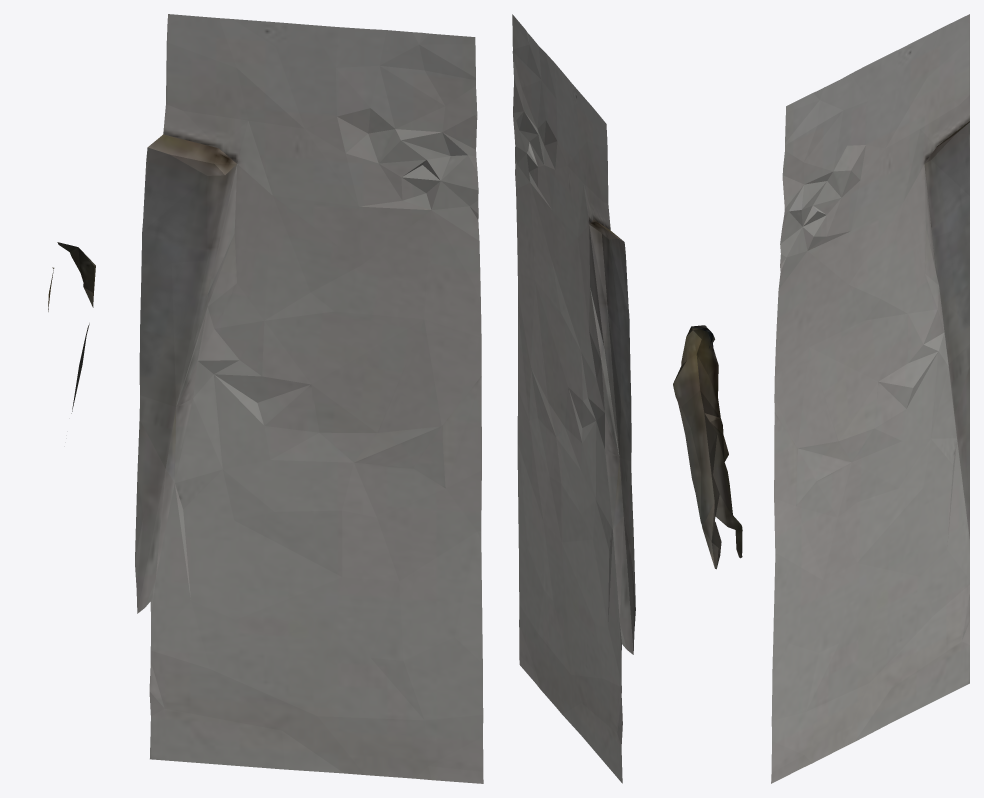
3 views of the same model, side by side, from view 1: azimuth 30°, elevation 25°; view 2: azimuth 150°, elevation 25°; view 3: azimuth 270°, elevation 25° (orthographic). The views are drawn at different scales.
Size of the model in its own units: 0.8528 by 1.67 by 0.4454.
1 material, 1 textured.
